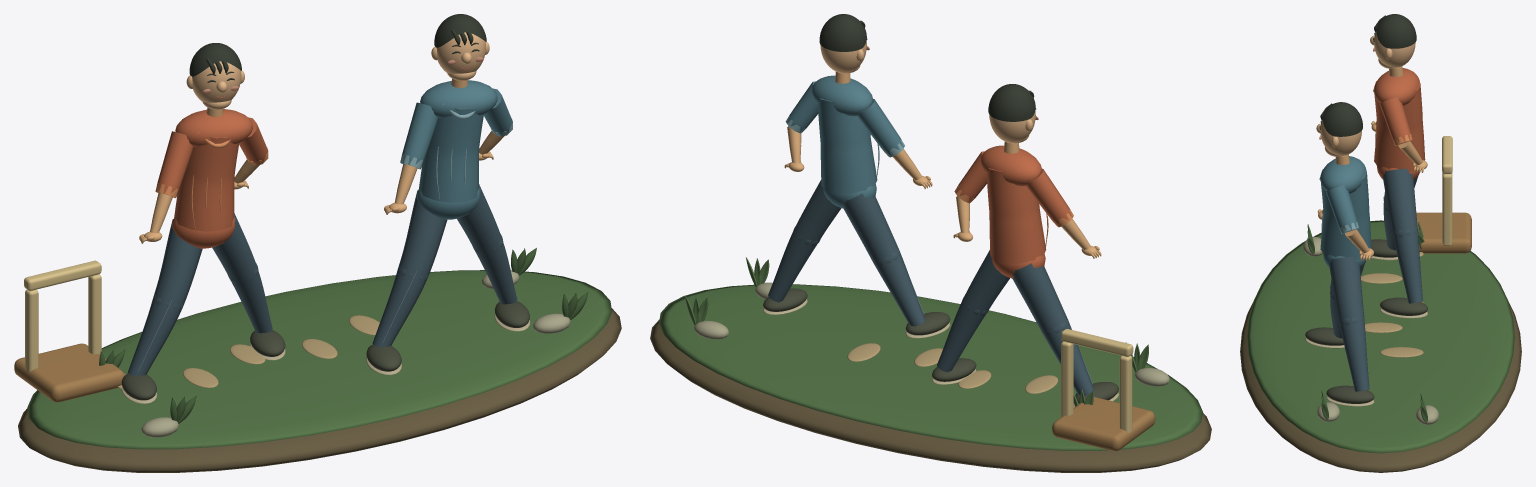
The model's file is follow.glb.
The picture shows the model from 3 angles, left to right: view 1: azimuth 30°, elevation 25°; view 2: azimuth 150°, elevation 25°; view 3: azimuth 270°, elevation 25°; orthographic projection. The views are drawn at different scales.
Visible parts, largest first — view 1: follow_surface_01, follow_surface_00, follow_surface_13, follow_surface_06, follow_surface_17, follow_surface_03, follow_surface_04, follow_surface_08, follow_surface_14, follow_surface_09, follow_surface_07, follow_surface_05 (+3 smaller); view 2: follow_surface_01, follow_surface_00, follow_surface_13, follow_surface_06, follow_surface_17, follow_surface_03, follow_surface_04, follow_surface_09, follow_surface_07, follow_surface_14, follow_surface_05, follow_surface_08 (+1 smaller); view 3: follow_surface_01, follow_surface_13, follow_surface_00, follow_surface_17, follow_surface_06, follow_surface_09, follow_surface_14, follow_surface_03, follow_surface_08, follow_surface_07, follow_surface_04, follow_surface_05 (+2 smaller).
Part boxes in pixels (<box>): follow_surface_01: <box>27,248,611,449</box>; follow_surface_00: <box>18,308,621,472</box>; follow_surface_13: <box>127,184,517,375</box>; follow_surface_06: <box>156,109,267,248</box>; follow_surface_17: <box>401,80,512,219</box>; follow_surface_03: <box>14,343,124,402</box>; follow_surface_04: <box>24,260,101,372</box>; follow_surface_08: <box>186,32,489,109</box>; follow_surface_14: <box>121,301,529,400</box>; follow_surface_09: <box>189,14,486,82</box>; follow_surface_07: <box>139,78,504,243</box>; follow_surface_05: <box>118,315,379,388</box>; follow_surface_01: <box>659,257,1202,450</box>; follow_surface_00: <box>650,319,1211,472</box>; follow_surface_13: <box>768,180,1094,396</box>; follow_surface_06: <box>955,145,1072,278</box>; follow_surface_17: <box>786,75,903,208</box>; follow_surface_03: <box>1052,397,1155,451</box>; follow_surface_04: <box>1061,329,1133,432</box>; follow_surface_09: <box>819,14,1036,121</box>; follow_surface_07: <box>784,71,1101,258</box>; follow_surface_14: <box>763,288,1118,403</box>; follow_surface_05: <box>847,343,1074,407</box>; follow_surface_08: <box>820,41,1035,143</box>; follow_surface_01: <box>1247,220,1514,453</box>; follow_surface_13: <box>1329,168,1422,391</box>; follow_surface_00: <box>1240,302,1521,472</box>; follow_surface_17: <box>1320,156,1371,267</box>; follow_surface_06: <box>1374,68,1425,179</box>; follow_surface_09: <box>1319,14,1416,136</box>; follow_surface_14: <box>1305,239,1427,403</box>; follow_surface_03: <box>1416,212,1471,253</box>; follow_surface_08: <box>1316,31,1415,156</box>; follow_surface_07: <box>1317,66,1427,260</box>; follow_surface_04: <box>1442,136,1452,245</box>; follow_surface_05: <box>1361,252,1423,357</box>.
Size of the model in its own units: 4.88 by 2.99 by 2.42.
